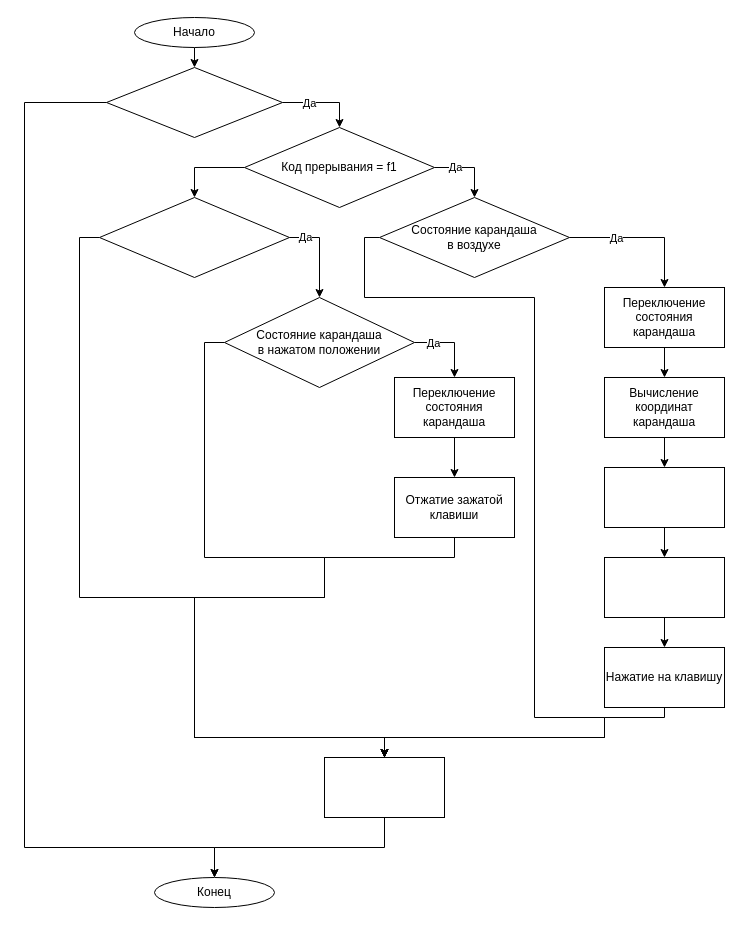
Image size: 742x925. Some labels were removed from this diagram. Here are the shapes that lost their labels. From the top down, the centre of each, then its label:
At point 194,102: "Статус прерывания корректный".
At point 194,237: "Код прерывания = f0".
At point 664,497: "Вычисление клавиши по координатам".
At point 664,587: "Сохранение зажатой клавиши".
At point 384,787: "Завершение прерывания".
